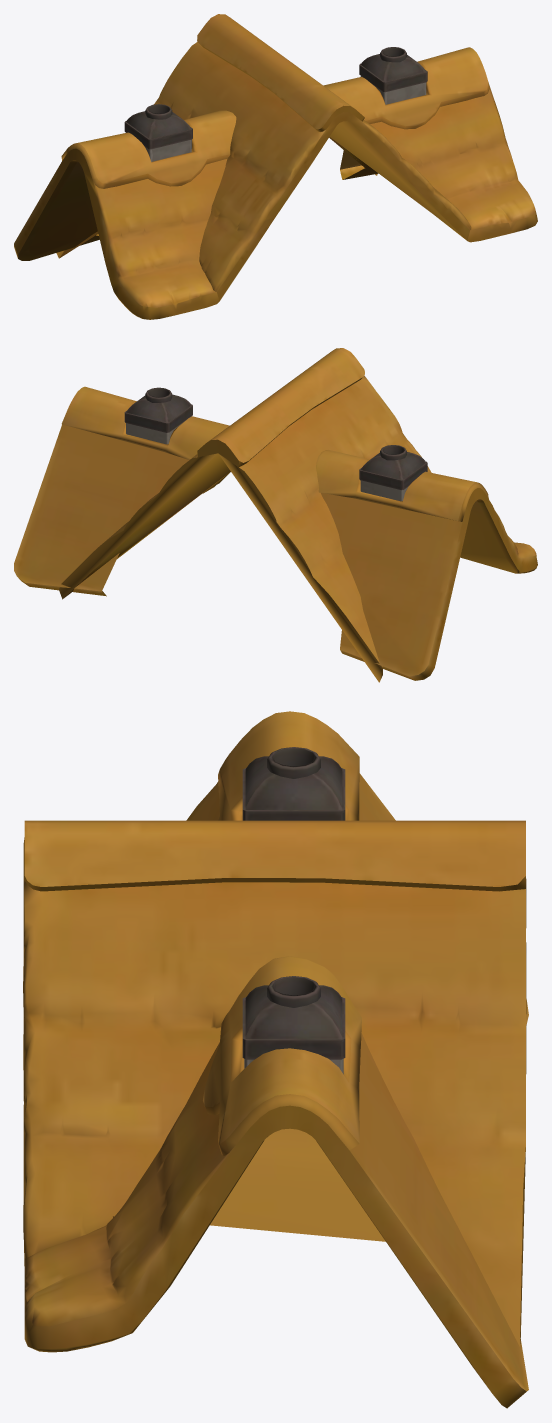
The model's file is roof-pa04-thatched.glb.
3 views of the same model, one above another, from view 1: azimuth 30°, elevation 25°; view 2: azimuth 150°, elevation 25°; view 3: azimuth 270°, elevation 25° (orthographic). The views are drawn at different scales.
Bounding box in the file's own units: 50.03 × 23.53 × 26.32.
2 materials, 2 textured.
